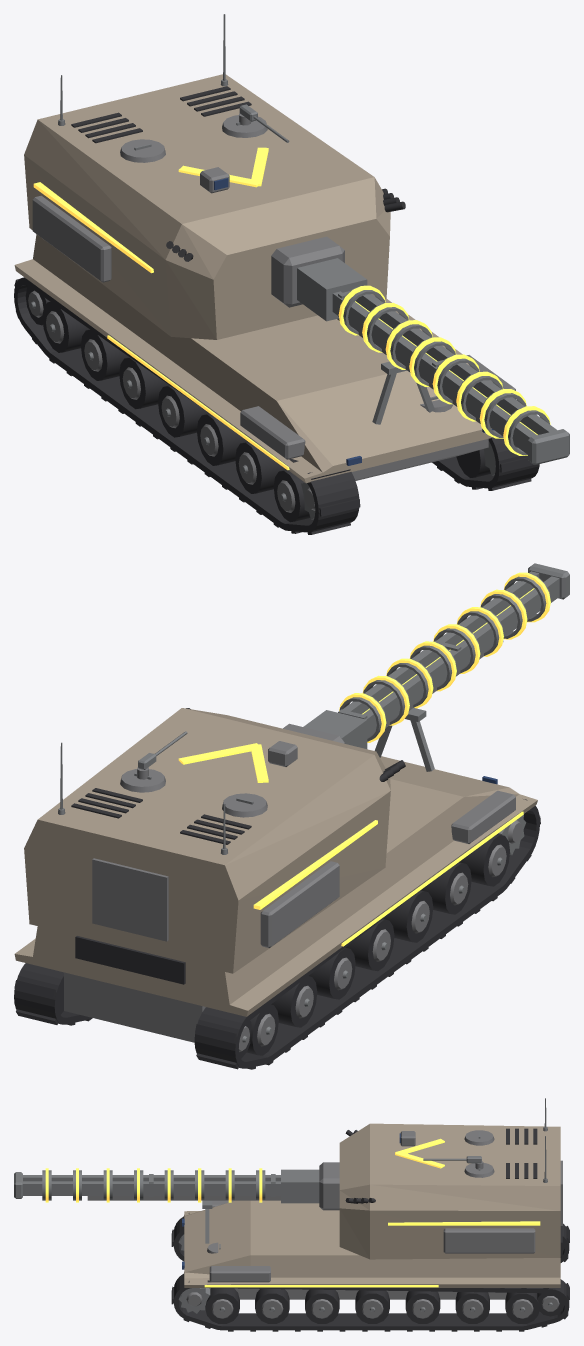
Rendered from spg_red.glb.
The picture shows the model from 3 angles, top to bottom: view 1: azimuth 30°, elevation 25°; view 2: azimuth 150°, elevation 25°; view 3: azimuth 270°, elevation 25°; orthographic projection. The views are drawn at different scales.
Parts seen in each view (by area): view 1: turret, body, gun; view 2: turret, body, gun; view 3: body, turret, gun.
Boxes of the visible parts, x1,y1,x2,y2 form: turret: (24, 14, 405, 339); body: (14, 234, 539, 534); gun: (271, 236, 569, 464); turret: (24, 708, 405, 973); body: (14, 707, 540, 1069); gun: (283, 563, 569, 748); body: (171, 1200, 569, 1331); turret: (339, 1098, 562, 1259); gun: (14, 1162, 339, 1210).
Bounding box in the file's own units: 3.52 × 4.05 × 10.93.
